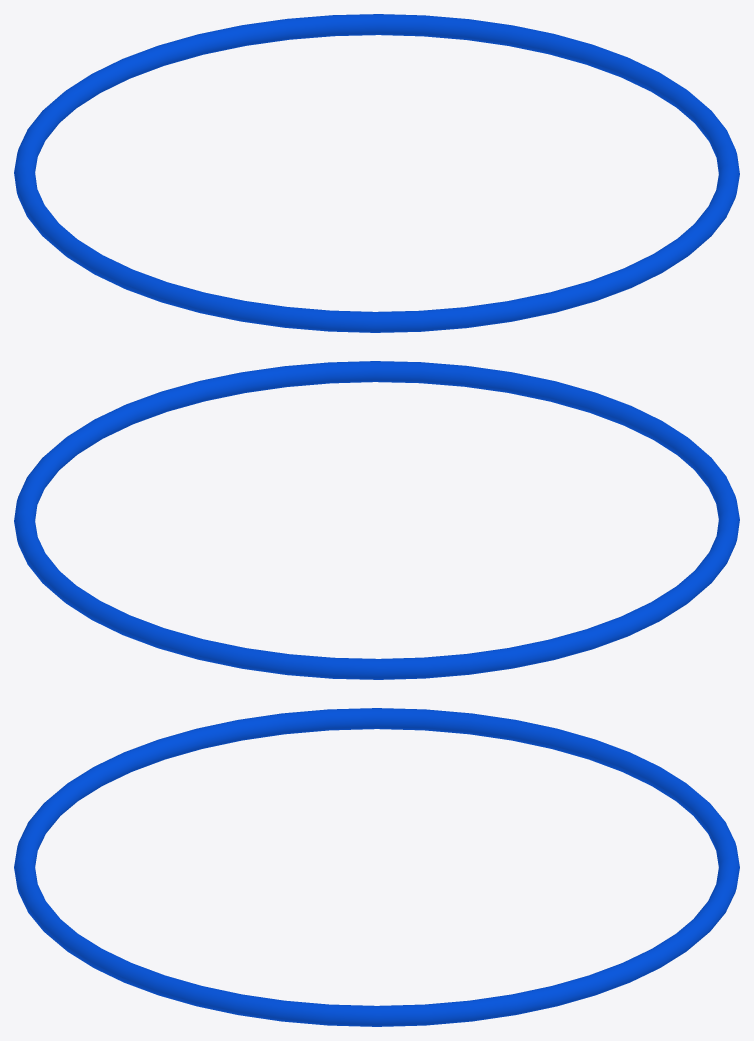
The model's file is rotate_gizmo_x.gltf.
The picture shows the model from 3 angles, top to bottom: view 1: azimuth 30°, elevation 25°; view 2: azimuth 150°, elevation 25°; view 3: azimuth 270°, elevation 25°; orthographic projection.
Parts seen in each view (by area): view 1: X; view 2: X; view 3: X.
Boxes of the visible parts, left/top/right/bottom form: X: left=14, top=14, right=739, bottom=332; X: left=14, top=361, right=739, bottom=679; X: left=14, top=708, right=739, bottom=1026.
Bounding box in the file's own units: 1.93 × 0.0562 × 1.93.
